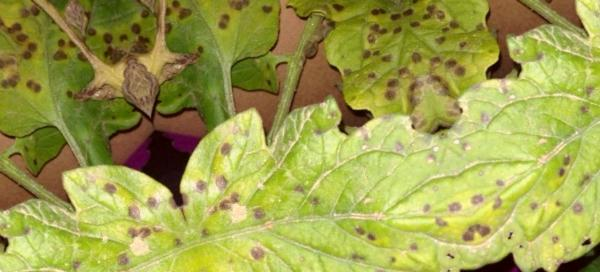Tomato Septoria leaf spot: (158, 51, 502, 272), (75, 0, 309, 132), (225, 0, 377, 1)
